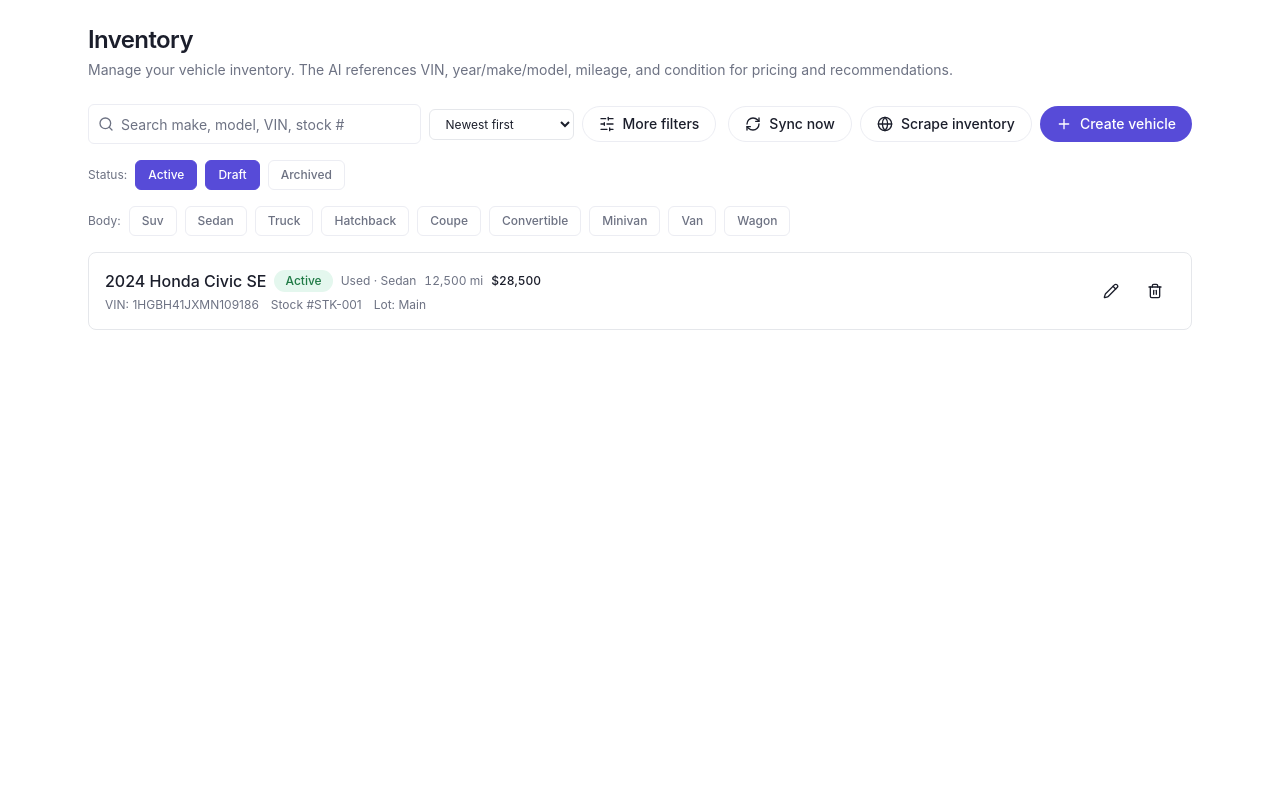
it: KAN-1219 fix-forward — router.replace race guard › Edit button click does NOT bubble to the card Link
Step 1. Click the button named "Edit 2024 Honda Civic" → click(1111, 291), box [1091,271,1131,311]
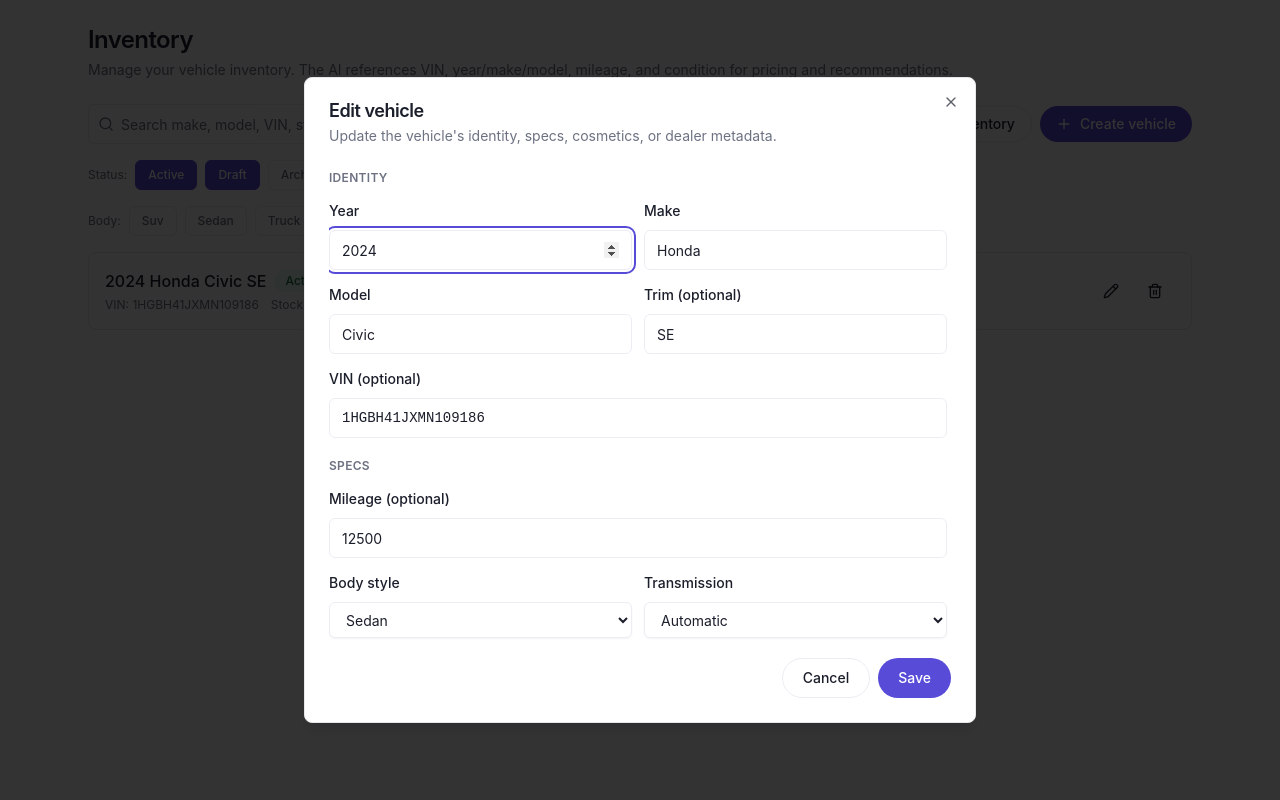
Check: the heading "Edit vehicle" is shown, box [329,100,424,121]
